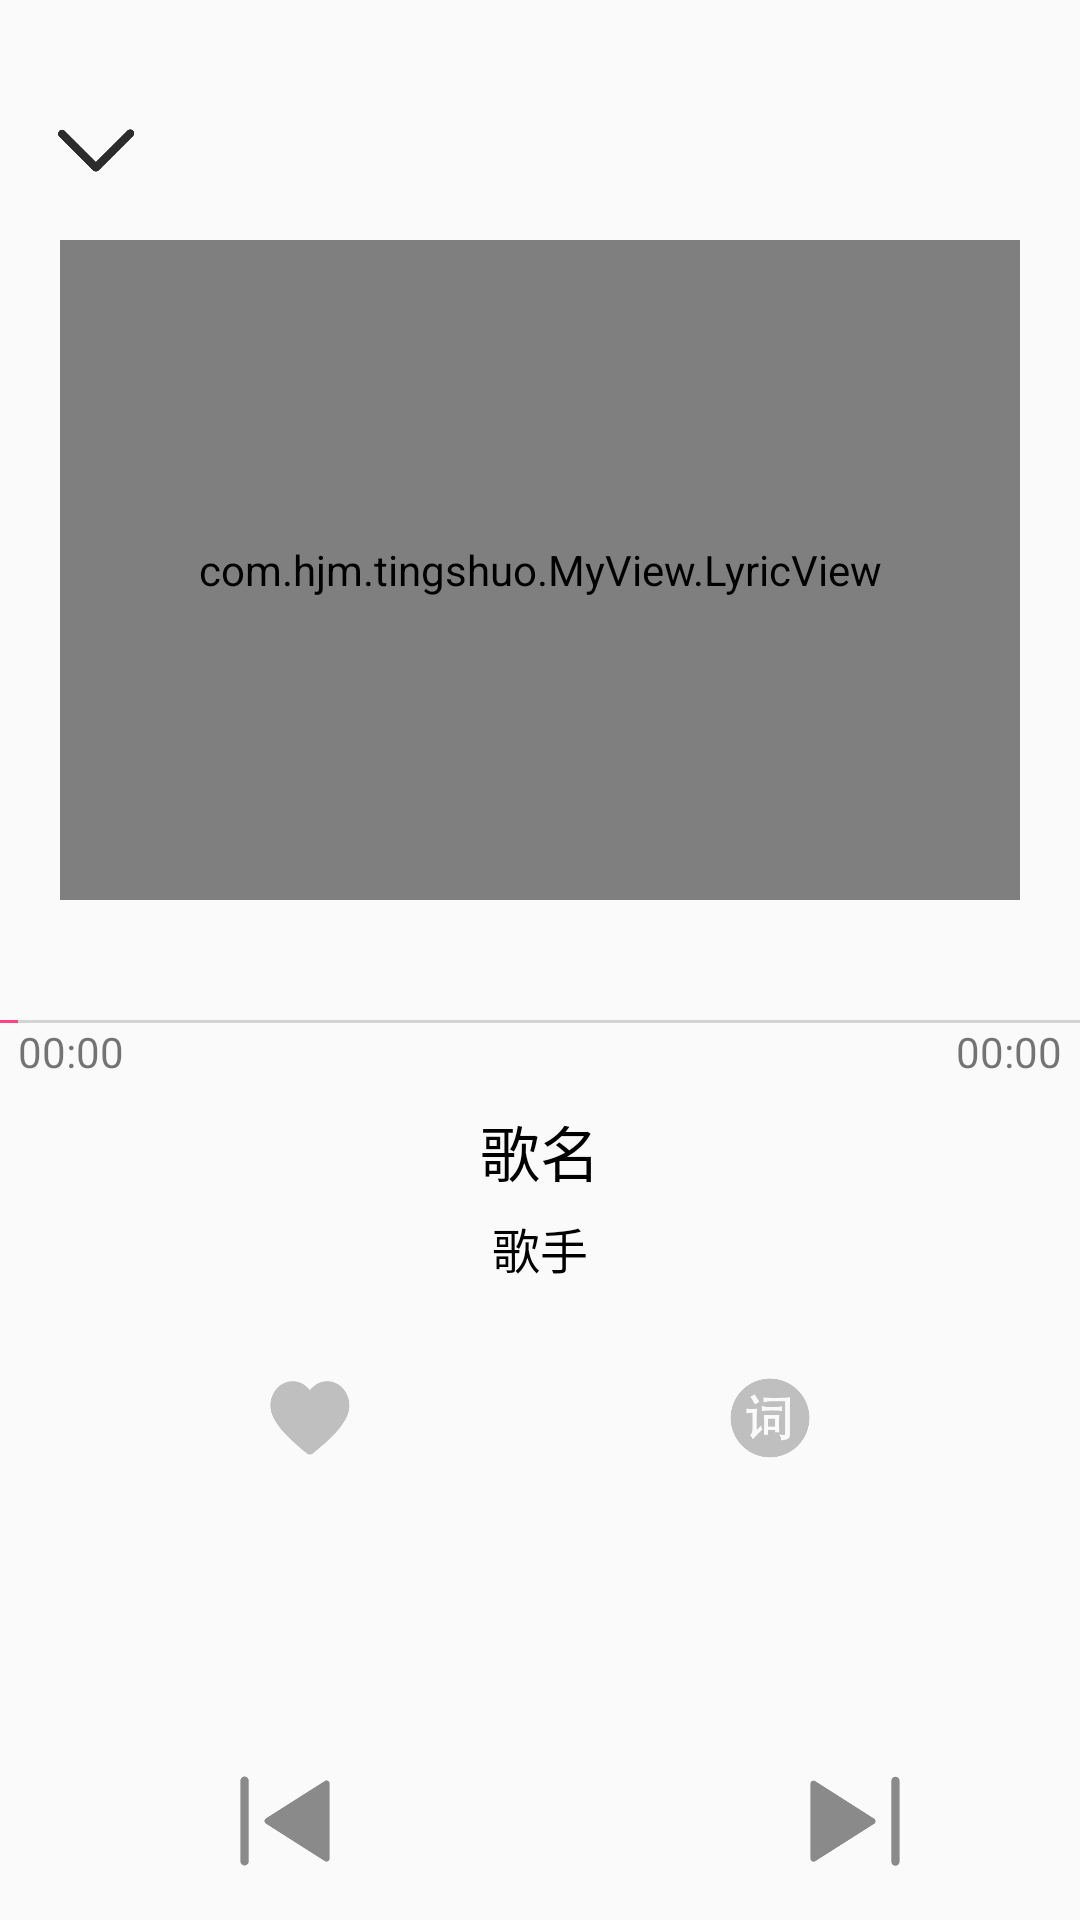

Named icons in this screenshot (1080w x 1920h) and their bounding boxes, [x1,y1,x2,y2]:
play next: [810,1776,900,1866]
play pre: [240,1776,330,1866]
song no collection: [270,1381,349,1455]
